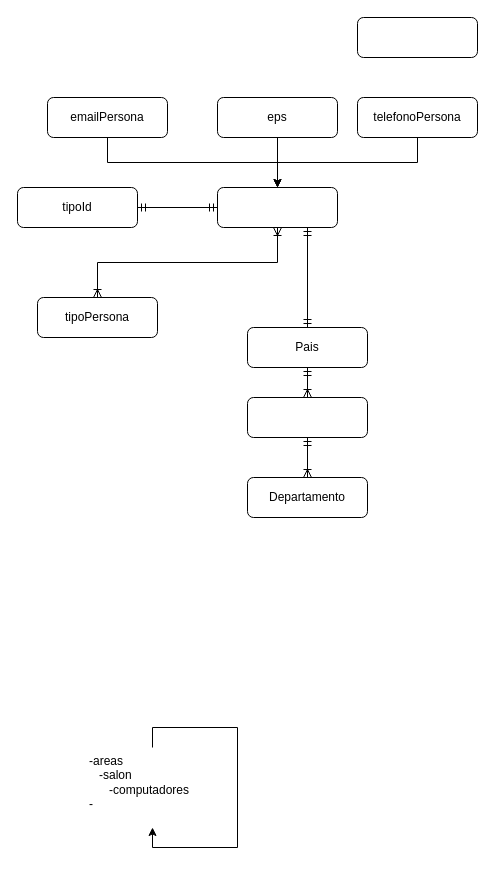
The diagram is 495 pixels wide and 873 high, and some of its shapes have lost their labels. Each missing label, with the centre of its shape:
Ciudad: pixel 307 417
persona: pixel 277 207
